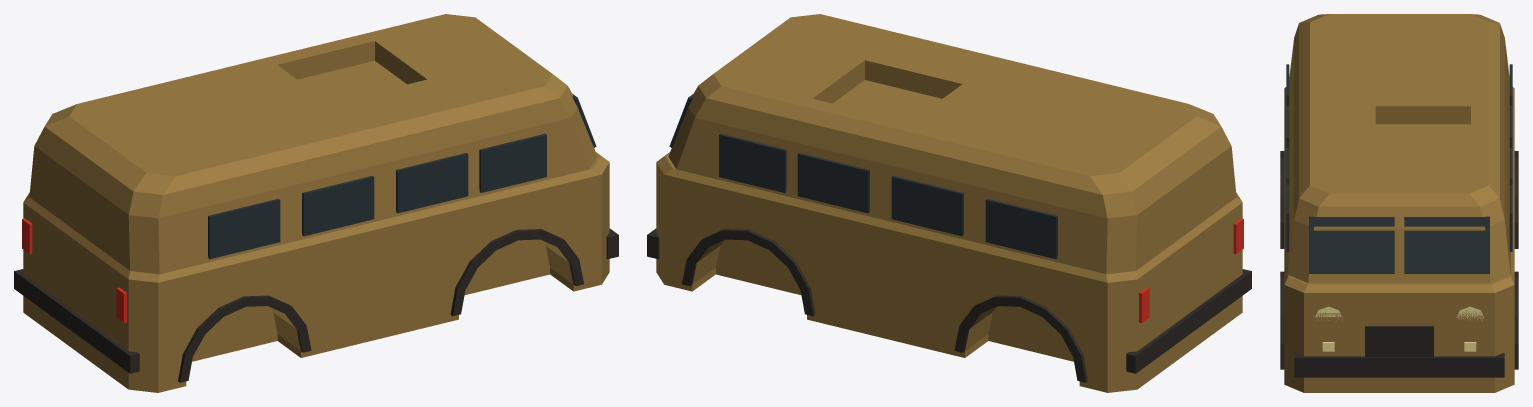
Rendered from base_bukhanka.glb.
3 views of the same model, side by side, from view 1: azimuth 30°, elevation 25°; view 2: azimuth 150°, elevation 25°; view 3: azimuth 270°, elevation 25° (orthographic). The views are drawn at different scales.
Parts seen in each view (by area): view 1: base_bukhanka; view 2: base_bukhanka; view 3: base_bukhanka.
Part boxes in pixels (bbox=[...]): base_bukhanka: bbox=[14, 14, 618, 392]; base_bukhanka: bbox=[647, 14, 1251, 392]; base_bukhanka: bbox=[1280, 14, 1518, 392].
Size of the model in its own units: 5.2 by 2.02 by 2.42.
